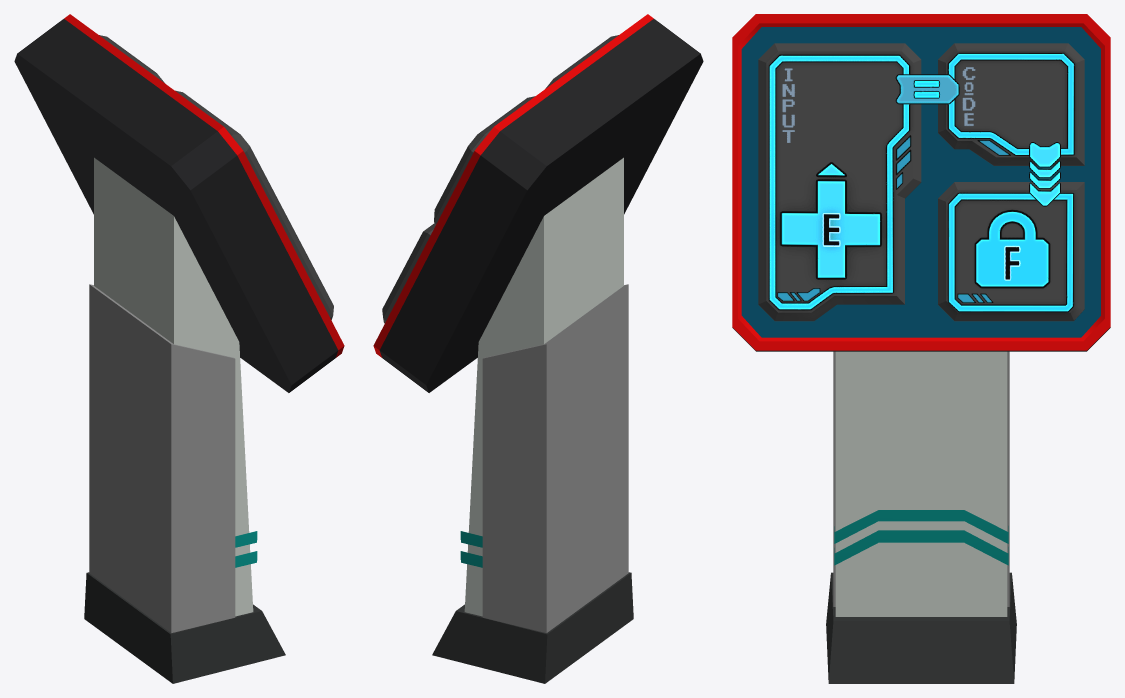
File: lock.clicker.glb
The picture shows the model from 3 angles, left to right: view 1: azimuth 30°, elevation 25°; view 2: azimuth 150°, elevation 25°; view 3: azimuth 270°, elevation 25°; orthographic projection. The views are drawn at different scales.
Visible parts, largest first — view 1: lock.clicker; view 2: lock.clicker; view 3: lock.clicker.
Boxes of the visible parts, left/top/right/bottom form: lock.clicker: left=14, top=14, right=344, bottom=683; lock.clicker: left=373, top=14, right=703, bottom=683; lock.clicker: left=732, top=14, right=1110, bottom=683.
Size of what is drawn, in the model's own units: 0.6489 by 2.08 by 1.15.
3 materials, 3 textured.
